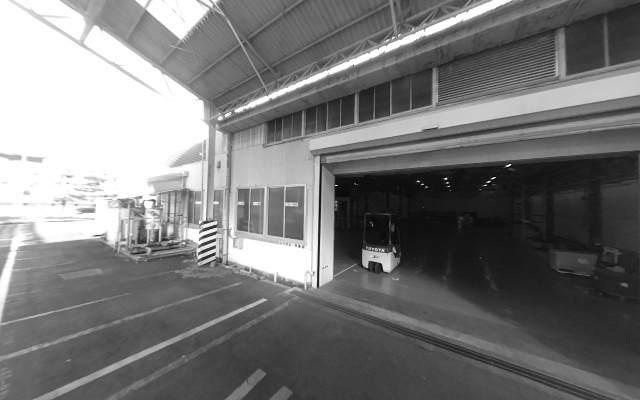bollard: (198, 217, 219, 269)
